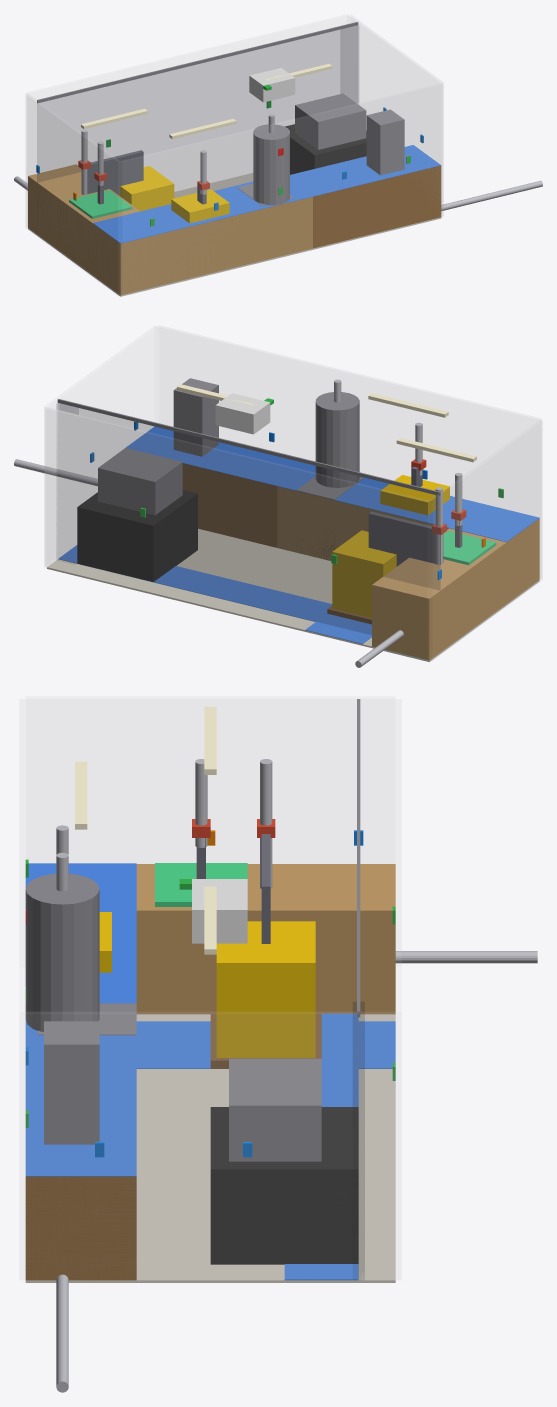
Rendered from woodshop_layout.dae.
3 views of the same model, one above another, from view 1: azimuth 30°, elevation 25°; view 2: azimuth 150°, elevation 25°; view 3: azimuth 270°, elevation 25° (orthographic). The views are drawn at different scales.
Parts seen in each view (by area): view 1: Wall_Back, Curtain_Closed, L_Bench_Top_Leg, Wall_Left, Existing_3x8_Workbench, Miter_LongStock_Support_Ghost, L_Bench_Left_Leg, Wall_Right, Laser_Enclosure, Wall_Front, Dust_Collector_Body, Drill_Press_Column (+13 smaller); view 2: Wall_Front, Curtain_Closed, Wall_Back, Wall_Left, L_Bench_Left_Leg, Floor, Miter_LongStock_Support_Ghost, Laser_Rolling_Table, L_Bench_Top_Leg, Existing_3x8_Workbench, Wall_Right, Walking_Aisle_Front (+16 smaller); view 3: Wall_Right, Wall_Left, Floor, L_Bench_Left_Leg, Laser_Rolling_Table, Miter_LongStock_Support_Ghost, Table_Saw_Body, Existing_3x8_Workbench, Dust_Collector_Body, Laser_Enclosure, Drill_Press_Column, Walking_Aisle_Front (+18 smaller).
Part boxes in pixels (left/top/right/bottom): Wall_Back: left=121, top=84, right=441, bottom=295; Curtain_Closed: left=37, top=26, right=357, bottom=197; L_Bench_Top_Leg: left=93, top=197, right=312, bottom=295; Wall_Left: left=26, top=94, right=119, bottom=295; Existing_3x8_Workbench: left=313, top=165, right=441, bottom=248; Miter_LongStock_Support_Ghost: left=93, top=145, right=441, bottom=243; L_Bench_Left_Leg: left=28, top=164, right=140, bottom=274; Wall_Right: left=349, top=15, right=443, bottom=215; Laser_Enclosure: left=295, top=93, right=366, bottom=149; Wall_Front: left=27, top=15, right=347, bottom=99; Dust_Collector_Body: left=253, top=124, right=289, bottom=205; Drill_Press_Column: left=366, top=109, right=404, bottom=175; Wall_Front: left=46, top=408, right=428, bottom=660; Curtain_Closed: left=58, top=403, right=439, bottom=634; Wall_Back: left=158, top=326, right=540, bottom=485; Wall_Left: left=430, top=420, right=542, bottom=660; L_Bench_Left_Leg: left=372, top=528, right=506, bottom=660; Floor: left=47, top=529, right=539, bottom=661; Miter_LongStock_Support_Ghost: left=126, top=426, right=539, bottom=542; Laser_Rolling_Table: left=77, top=490, right=197, bottom=581; L_Bench_Top_Leg: left=277, top=486, right=539, bottom=603; Existing_3x8_Workbench: left=182, top=463, right=277, bottom=547; Wall_Right: left=44, top=326, right=156, bottom=565; Walking_Aisle_Front: left=58, top=545, right=371, bottom=635; Wall_Right: left=26, top=1012, right=394, bottom=1281; Wall_Left: left=26, top=697, right=394, bottom=863; Floor: left=25, top=1014, right=395, bottom=1282; L_Bench_Left_Leg: left=136, top=864, right=395, bottom=1014; Laser_Rolling_Table: left=210, top=1107, right=358, bottom=1264; Miter_LongStock_Support_Ghost: left=25, top=863, right=136, bottom=1176; Table_Saw_Body: left=216, top=921, right=315, bottom=1057; Existing_3x8_Workbench: left=25, top=1176, right=136, bottom=1280; Dust_Collector_Body: left=25, top=873, right=99, bottom=1031; Laser_Enclosure: left=229, top=1058, right=321, bottom=1161; Drill_Press_Column: left=44, top=1021, right=99, bottom=1144; Walking_Aisle_Front: left=284, top=1013, right=358, bottom=1280.
Bounding box in the file's own units: 324 × 168 × 98.
